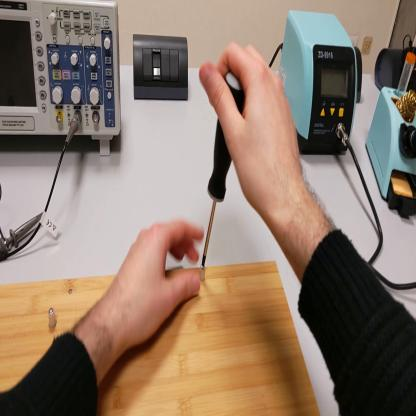hand: (200, 41, 305, 221), (109, 219, 204, 350)
oscilloscope: (1, 1, 123, 158)
oscilloscope probe tip: (1, 211, 45, 258)
screwdriver-: (201, 70, 242, 265)
socket: (375, 46, 416, 94), (356, 48, 364, 105)
welder base: (366, 52, 416, 220)
welder probe tip: (411, 131, 416, 149)
welder station: (279, 8, 360, 157)
working area: (2, 265, 320, 415)
